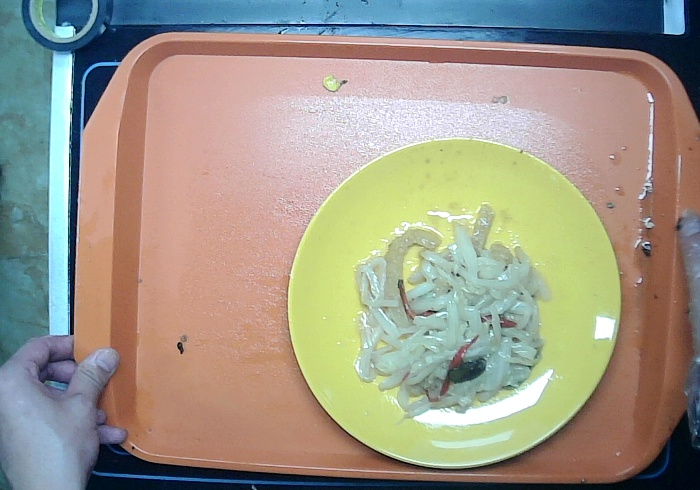HZYJPL-Huang_Se_Yuan_Pan: (285, 134, 622, 469)
